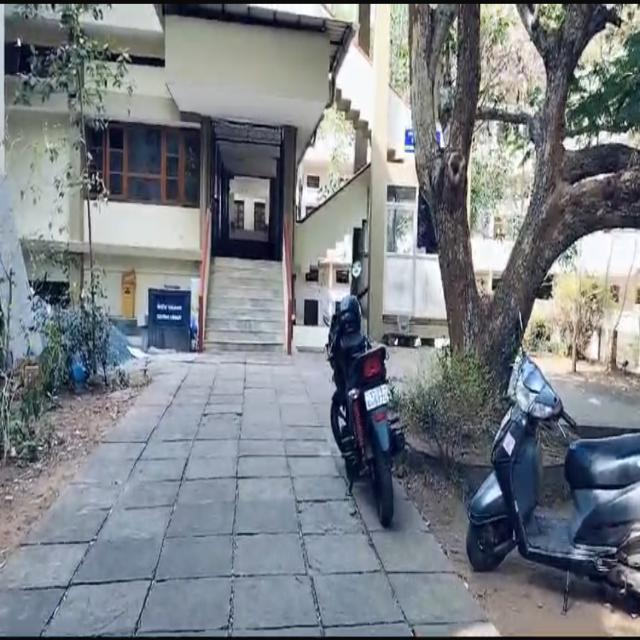motorcycle ahead at: (468, 295, 640, 627), (316, 250, 408, 530)
